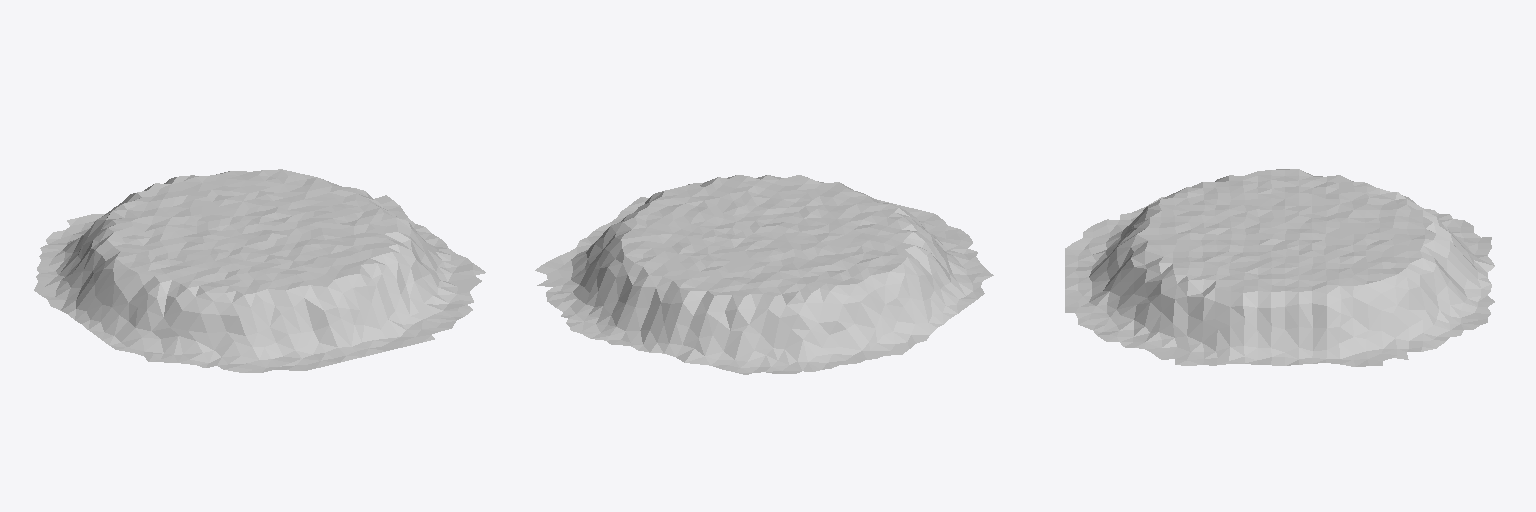
File: hill.obj
3 renders of one model, left to right at view 1: azimuth 30°, elevation 25°; view 2: azimuth 150°, elevation 25°; view 3: azimuth 270°, elevation 25°, orthographic.
Parts seen in each view (by area): view 1: Small_Terrain_5_Plane.009; view 2: Small_Terrain_5_Plane.009; view 3: Small_Terrain_5_Plane.009.
Part boxes in pixels (x1,y1,x2,y2): Small_Terrain_5_Plane.009: (34,169,485,372); Small_Terrain_5_Plane.009: (535,175,993,374); Small_Terrain_5_Plane.009: (1065,169,1494,366).
Bounding box in the file's own units: 23.85 × 2.88 × 24.43.